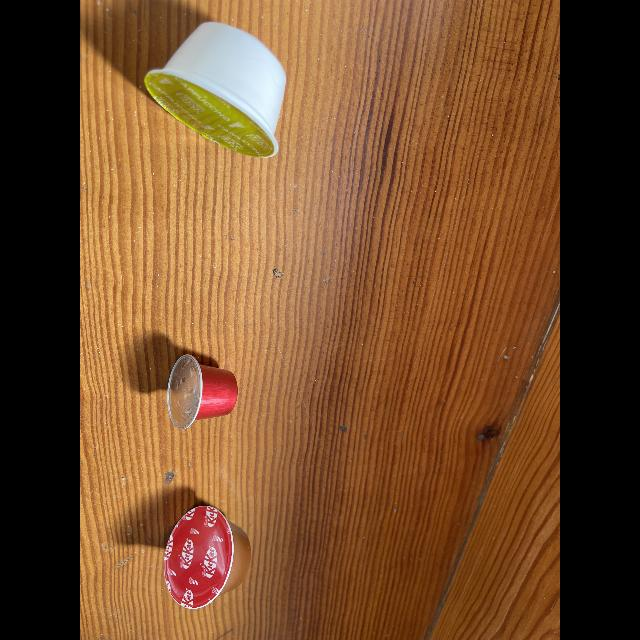intact_capsule: (139, 16, 307, 168), (152, 498, 262, 616), (163, 344, 249, 442)
